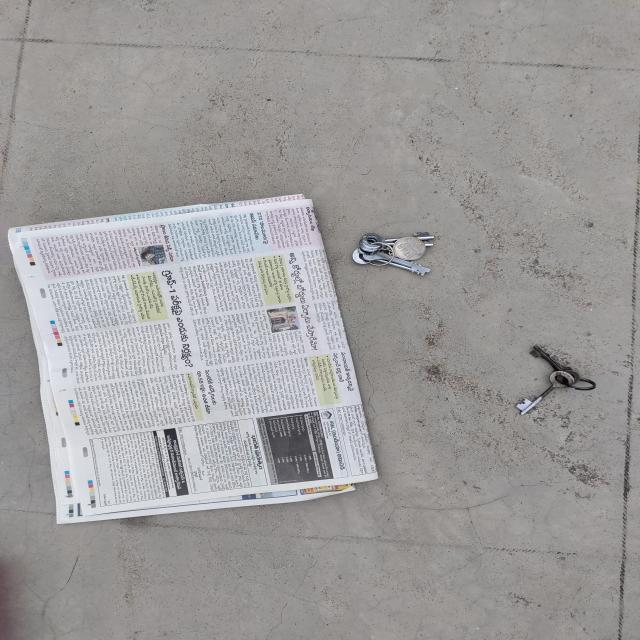dry: (10, 193, 352, 524), (511, 345, 597, 415), (352, 231, 434, 276)
